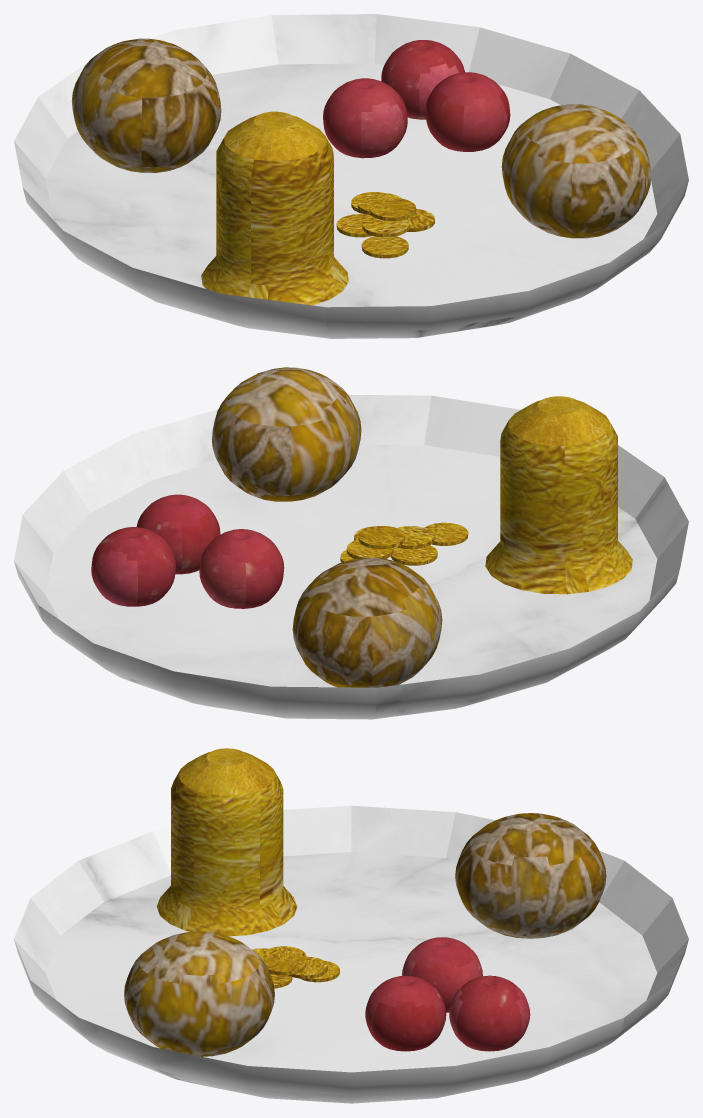
Rendered from offeringbasket (1).fbx.
3 views of the same model, one above another, from view 1: azimuth 30°, elevation 25°; view 2: azimuth 150°, elevation 25°; view 3: azimuth 270°, elevation 25° (orthographic). The views are drawn at different scales.
Parts seen in each view (by area): view 1: pCylinder9; view 2: pCylinder9; view 3: pCylinder9.
Part boxes in pixels (bbox=[...]): pCylinder9: bbox=[14, 14, 688, 338]; pCylinder9: bbox=[14, 367, 688, 719]; pCylinder9: bbox=[14, 748, 688, 1103].
Size of the model in its own units: 15.33 by 5.7 by 16.39.
Materials: 1 (1 with a texture image).
